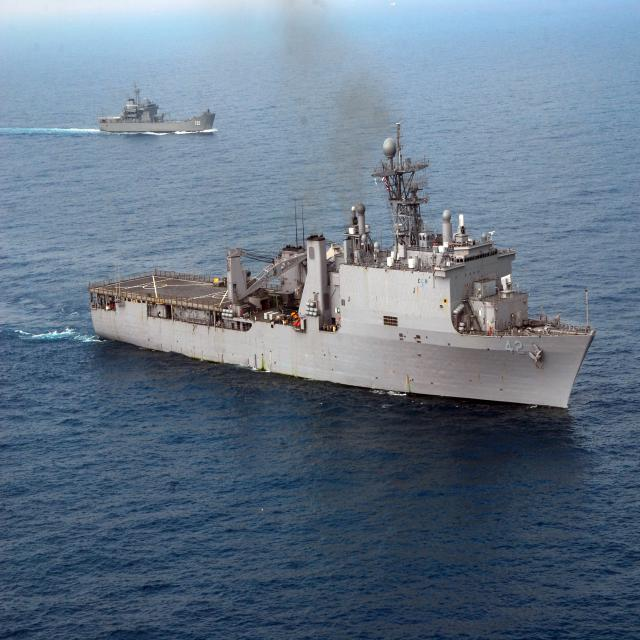navalvessels: (92, 120, 602, 415), (96, 72, 218, 139)
